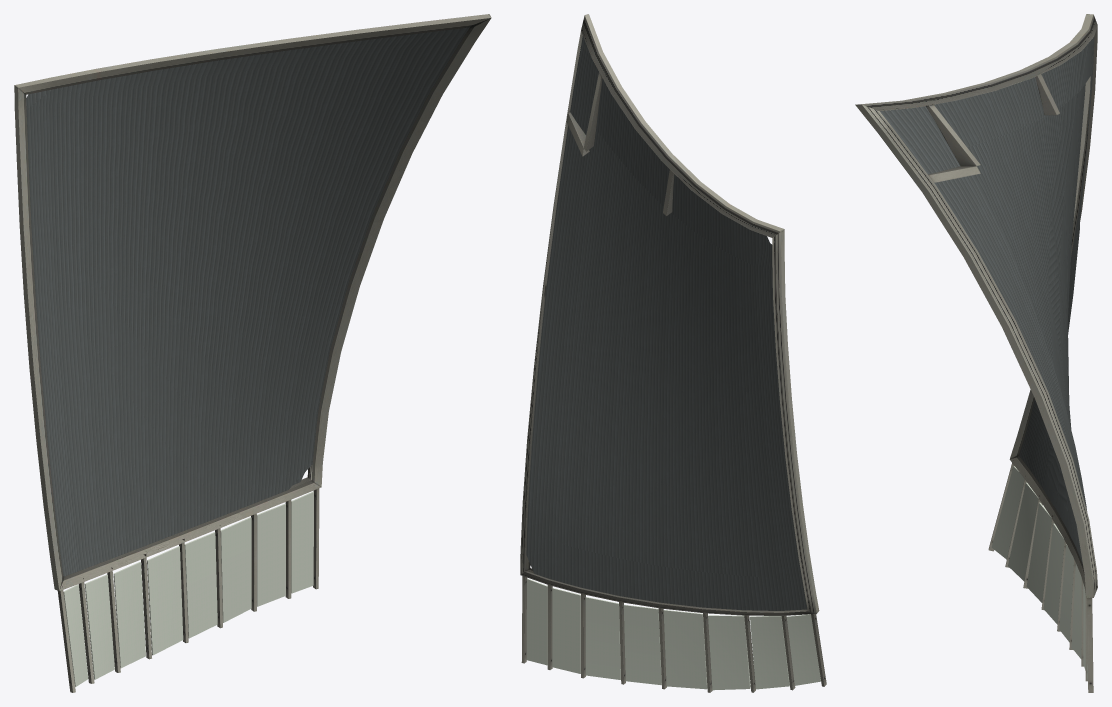
The model's file is nt_rooftop_angular_house_LOD1.obj.
The picture shows the model from 3 angles, left to right: view 1: azimuth 30°, elevation 25°; view 2: azimuth 150°, elevation 25°; view 3: azimuth 270°, elevation 25°; orthographic projection. The views are drawn at different scales.
Parts seen in each view (by area): view 1: metal_corrugated_wide_bars, mtl_nt_rooftop_angular_house, nt_2020_glass_sanded_01; view 2: metal_corrugated_wide_bars, nt_2020_glass_sanded_01, mtl_nt_rooftop_angular_house; view 3: metal_corrugated_wide_bars, mtl_nt_rooftop_angular_house, nt_2020_glass_sanded_01.
Part boxes in pixels (box(x1,y1,x2,y2)): metal_corrugated_wide_bars: box(26, 27, 469, 576); mtl_nt_rooftop_angular_house: box(14, 14, 491, 692); nt_2020_glass_sanded_01: box(63, 491, 313, 686); metal_corrugated_wide_bars: box(526, 36, 807, 610); nt_2020_glass_sanded_01: box(526, 578, 820, 690); mtl_nt_rooftop_angular_house: box(520, 14, 826, 692); metal_corrugated_wide_bars: box(880, 36, 1094, 563); mtl_nt_rooftop_angular_house: box(855, 14, 1097, 692); nt_2020_glass_sanded_01: box(991, 466, 1087, 679).
Bounding box in the file's own units: 1247 × 2221 × 792.
